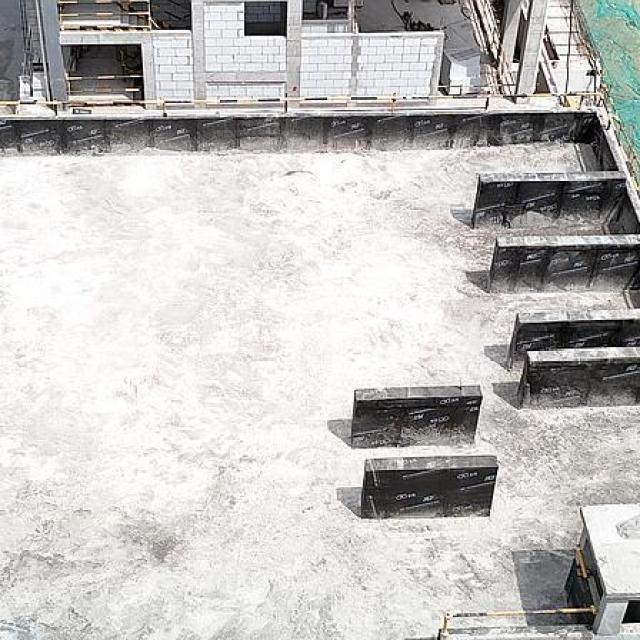Guardrail: (0, 91, 640, 199), (441, 547, 600, 637), (436, 0, 518, 96), (57, 0, 152, 31), (605, 86, 640, 169), (64, 71, 142, 96)
